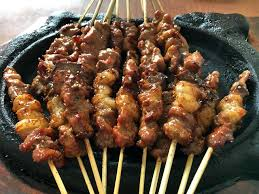sate: (6, 14, 259, 168)
